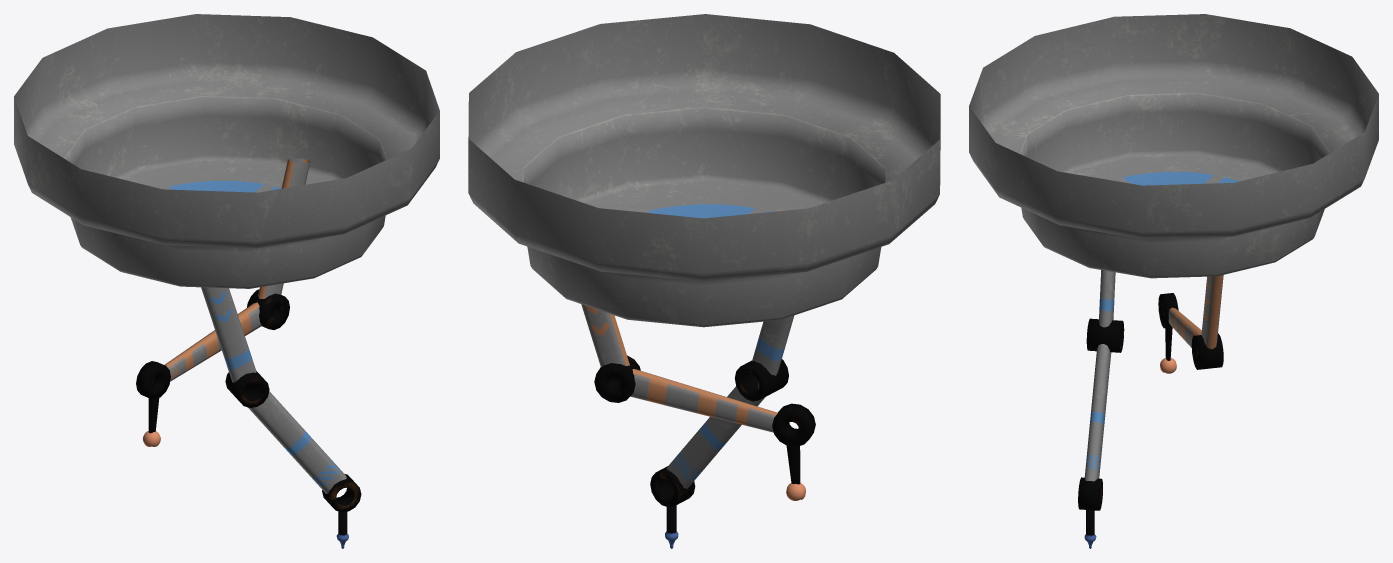
Rendered from Brazosv1_blender.fbx.
3 renders of one model, left to right at view 1: azimuth 30°, elevation 25°; view 2: azimuth 150°, elevation 25°; view 3: azimuth 270°, elevation 25°, orthographic. The views are drawn at different scales.
Parts seen in each view (by area): view 1: Brazos_MedicosV2_UV; view 2: Brazos_MedicosV2_UV; view 3: Brazos_MedicosV2_UV.
Boxes of the visible parts, x1=… form: Brazos_MedicosV2_UV: x1=14, y1=14, x2=439, y2=548; Brazos_MedicosV2_UV: x1=468, y1=14, x2=940, y2=548; Brazos_MedicosV2_UV: x1=969, y1=14, x2=1378, y2=548.
Bounding box in the file's own units: 156 × 176 × 157.
Materials: 2 (2 with a texture image).
